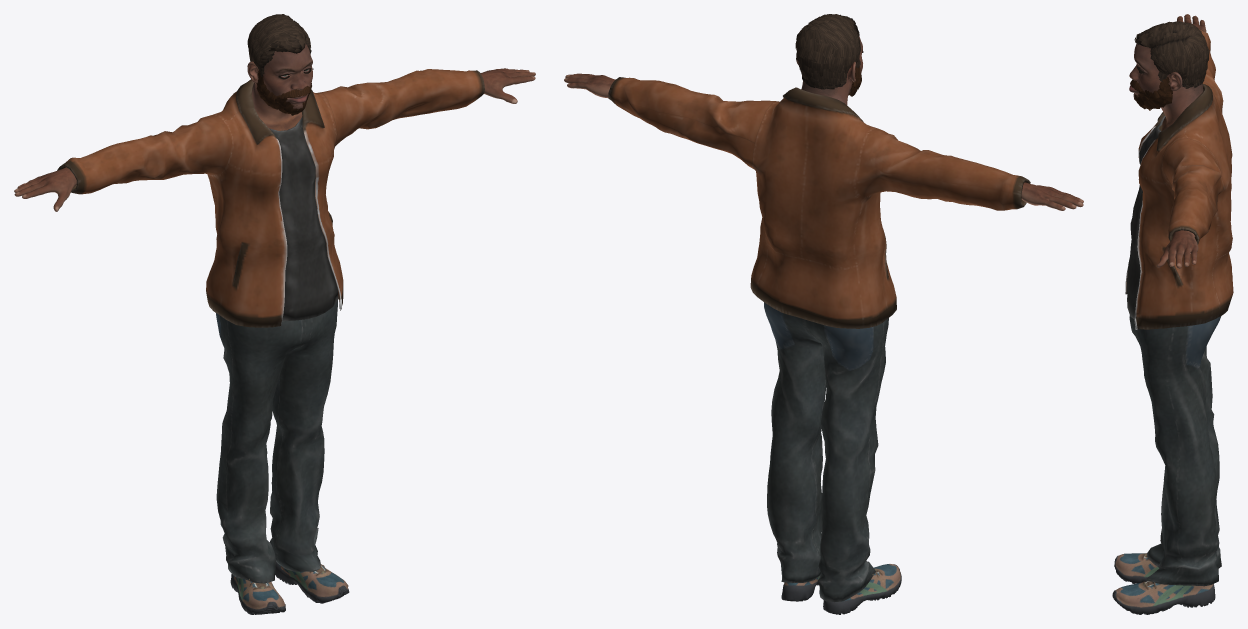
Rendered from Male_2.obj.
3 renders of one model, left to right at view 1: azimuth 30°, elevation 25°; view 2: azimuth 150°, elevation 25°; view 3: azimuth 270°, elevation 25°, orthographic.
Visible parts, largest first — view 1: Tops, Bottoms, Body, Shoes, Hair; view 2: Tops, Bottoms, Hair, Body, Shoes; view 3: Tops, Bottoms, Shoes, Body, Hair, Beards.
Part boxes in pixels (box(x1,y1,x2,y2)): Tops: box(57, 69, 484, 327); Bottoms: box(216, 300, 337, 583); Body: box(14, 44, 535, 211); Shoes: box(230, 562, 349, 614); Hair: box(247, 14, 311, 76); Tops: box(608, 77, 1030, 328); Bottoms: box(764, 302, 888, 602); Hair: box(795, 14, 860, 89); Body: box(564, 36, 1083, 210); Shoes: box(781, 564, 901, 614); Tops: box(1125, 28, 1233, 329); Bottoms: box(1129, 315, 1221, 586); Shoes: box(1112, 553, 1215, 614); Body: box(1129, 14, 1206, 268); Hair: box(1134, 21, 1209, 88); Beards: box(1134, 77, 1172, 110).
Size of the model in its own units: 176 by 186 by 35.85.
1 material, 1 textured.
